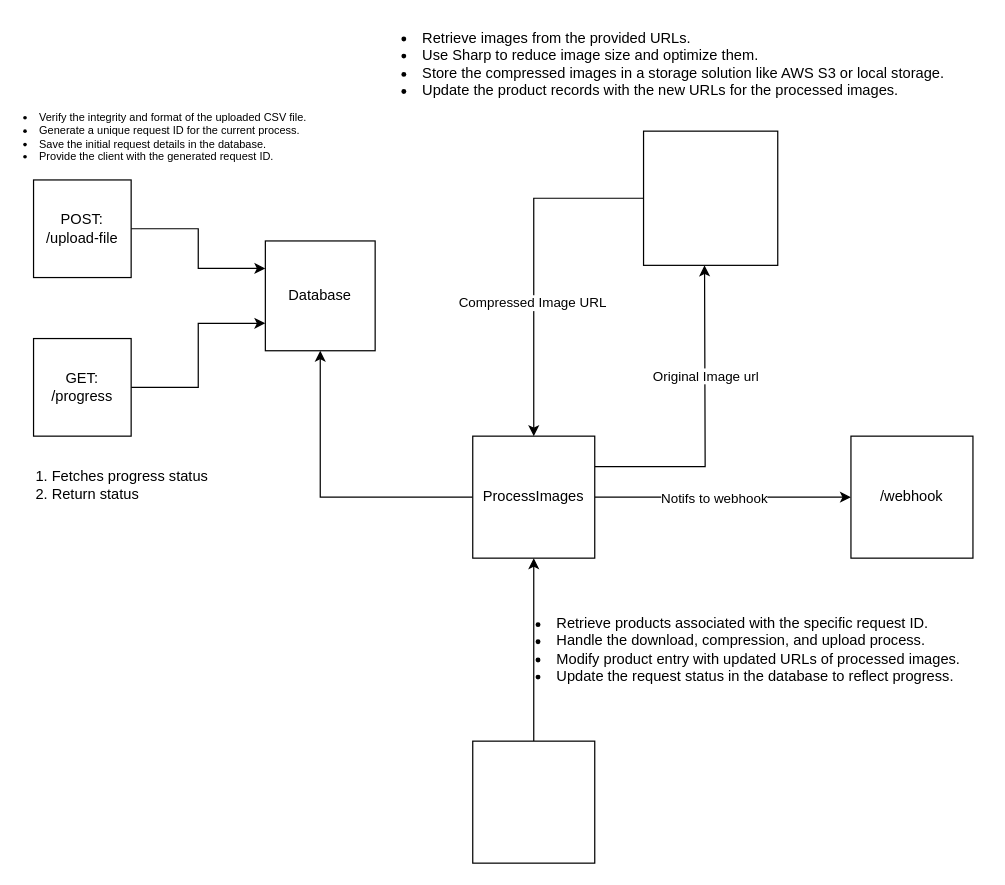
Image size: 1005x885. Some labels were removed from this diagram. Each missing label, with the centre of its shape:
Image Processor: the point at 710,197
Worker Script: the point at 533,801
